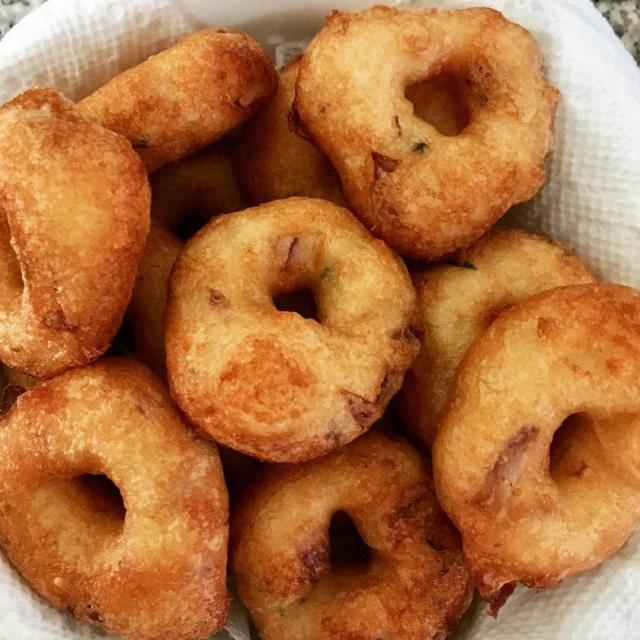Wet Waste: (301, 0, 556, 248), (6, 370, 238, 640), (175, 202, 415, 450), (461, 276, 640, 563), (236, 423, 470, 640), (0, 88, 129, 387), (88, 33, 278, 165)
